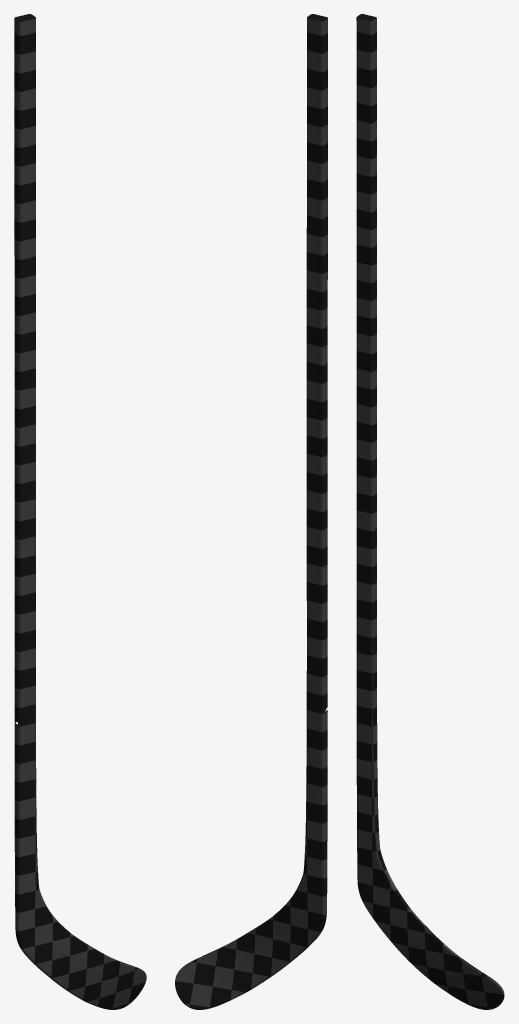
3 renders of one model, left to right at view 1: azimuth 30°, elevation 25°; view 2: azimuth 150°, elevation 25°; view 3: azimuth 330°, elevation 25°, orthographic. The views are drawn at different scales.
Parts seen in each view (by area): view 1: geometry_0; view 2: geometry_0; view 3: geometry_0.
Part boxes in pixels (x1=…): geometry_0: x1=14, y1=14, x2=146, y2=1009; geometry_0: x1=175, y1=14, x2=327, y2=1009; geometry_0: x1=356, y1=14, x2=504, y2=1009.
Size of the model in its own units: 238 by 1650 by 52.77.
Materials: 1 (1 with a texture image).
